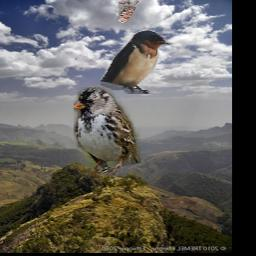Sparrow: (73, 87, 139, 177), (118, 0, 138, 23)
Swallow: (100, 30, 170, 95)
